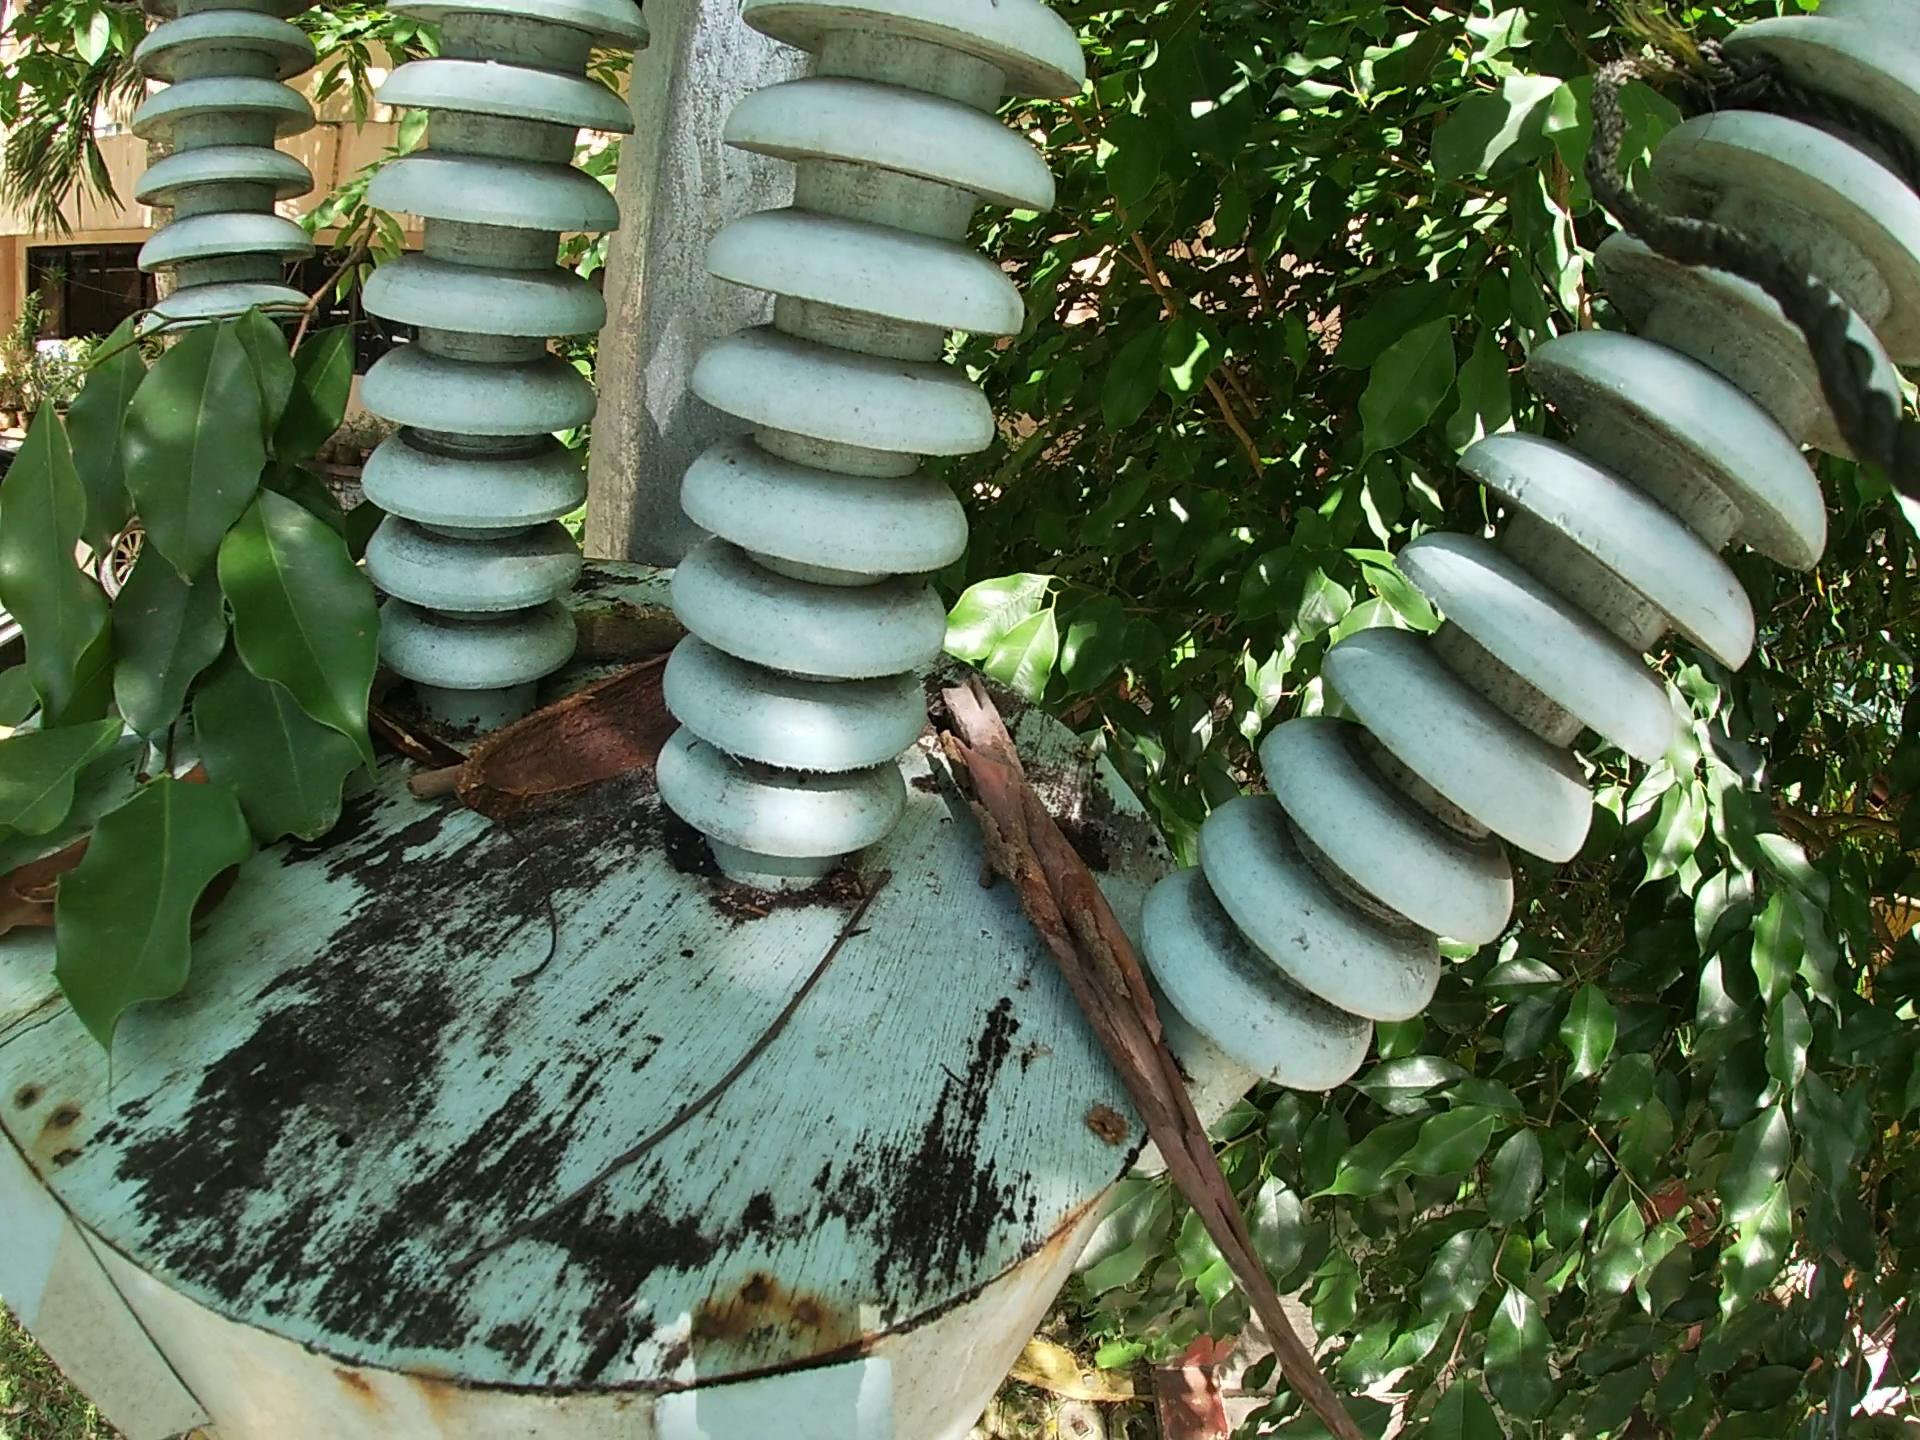branch with leaves: (14, 197, 432, 1113)
leaf: (2, 817, 79, 964), (351, 693, 451, 759), (178, 738, 212, 802)
mahogany fruit: (441, 666, 697, 852)
tree branch: (930, 663, 1447, 1432), (429, 864, 912, 1296), (469, 818, 582, 1021), (559, 593, 695, 675), (401, 761, 469, 824)
